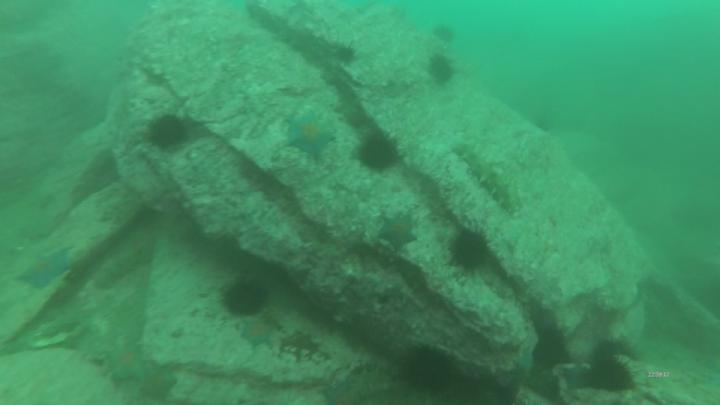echinus: (407, 347, 450, 392), (357, 132, 397, 170), (451, 232, 486, 272), (592, 356, 629, 392), (151, 115, 190, 147), (225, 284, 263, 313), (431, 58, 452, 79), (336, 46, 357, 63)
holothurian: (453, 143, 520, 214)
starfish: (19, 248, 68, 289), (289, 113, 334, 156), (102, 347, 144, 380), (381, 214, 418, 251), (143, 366, 177, 399), (321, 382, 358, 405), (565, 363, 593, 393), (245, 320, 276, 346)
